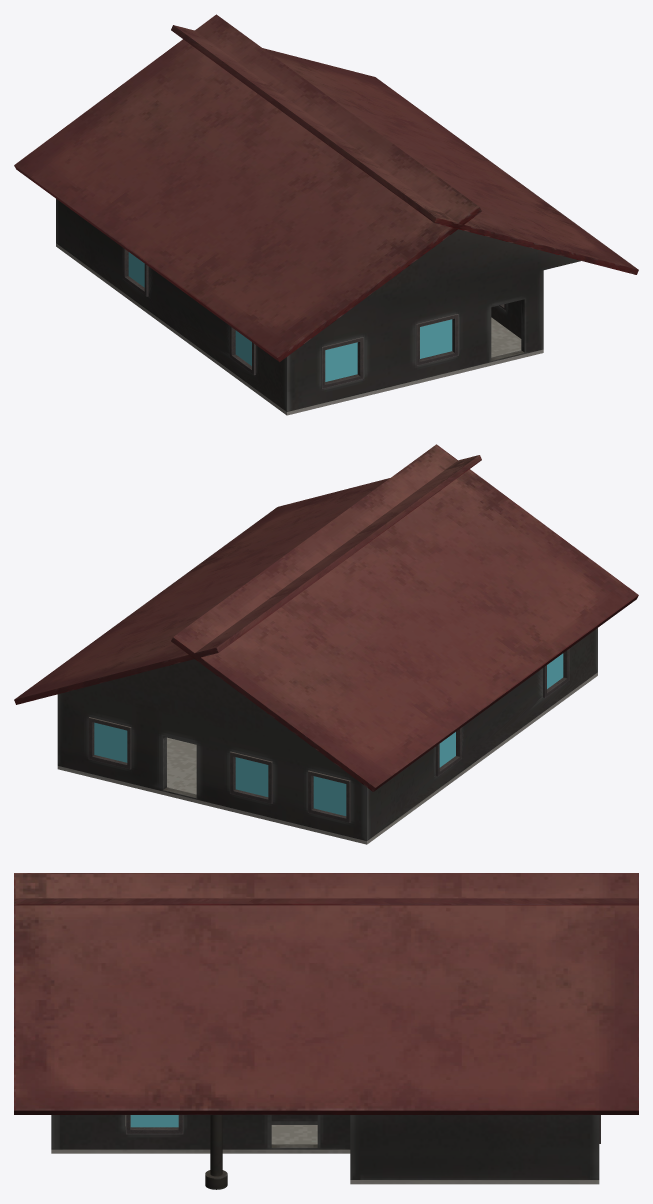
Rendered from House (2).fbx.
3 renders of one model, top to bottom at view 1: azimuth 30°, elevation 25°; view 2: azimuth 150°, elevation 25°; view 3: azimuth 270°, elevation 25°, orthographic. The views are drawn at different scales.
Visible parts, largest first — view 1: House.001, Window; view 2: House.001, Window; view 3: House.001, Window.
Part boxes in pixels (x1,y1,x2,y2): House.001: (14,14,638,415); Window: (122,247,505,388); House.001: (14,444,638,844); Window: (88,649,569,822); House.001: (14,873,638,1189); Window: (126,1115,600,1143).
Size of the model in its own units: 3135 by 1548 by 3958.
7 materials, 7 textured.
